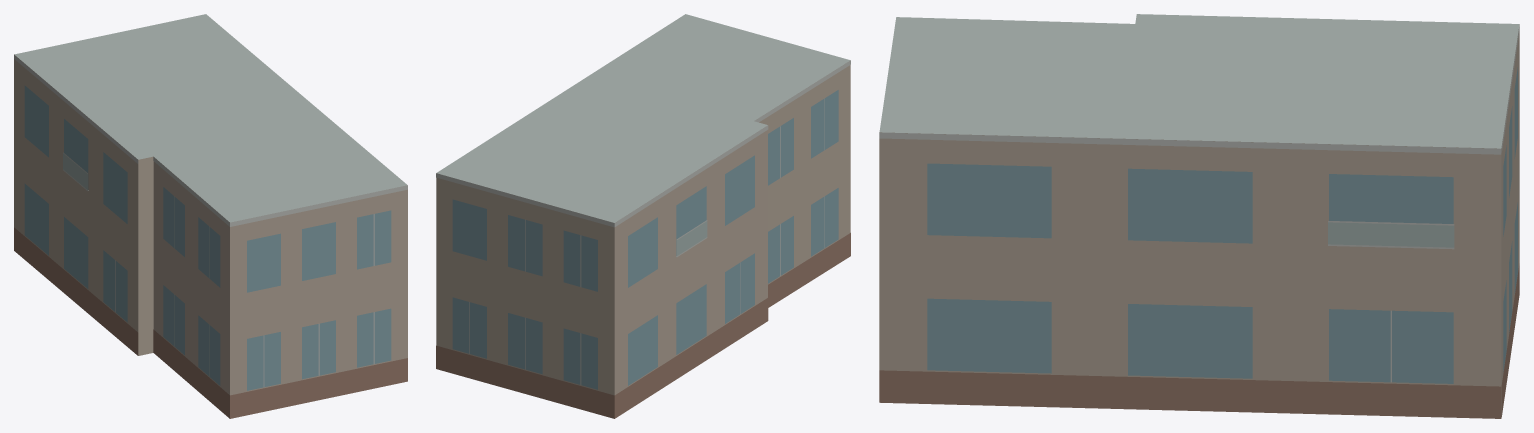
File: survey-upis-32850819.glb
The picture shows the model from 3 angles, left to right: view 1: azimuth 30°, elevation 25°; view 2: azimuth 150°, elevation 25°; view 3: azimuth 270°, elevation 25°; orthographic projection. The views are drawn at different scales.
Parts seen in each view (by area): view 1: survey-upis-32850819.tmp; view 2: survey-upis-32850819.tmp; view 3: survey-upis-32850819.tmp.
Boxes of the visible parts, bbox=[...] form: survey-upis-32850819.tmp: bbox=[14, 14, 407, 418]; survey-upis-32850819.tmp: bbox=[436, 14, 850, 418]; survey-upis-32850819.tmp: bbox=[879, 14, 1519, 418].
Bounding box in the file's own units: 11.54 × 10.8 × 23.19.
